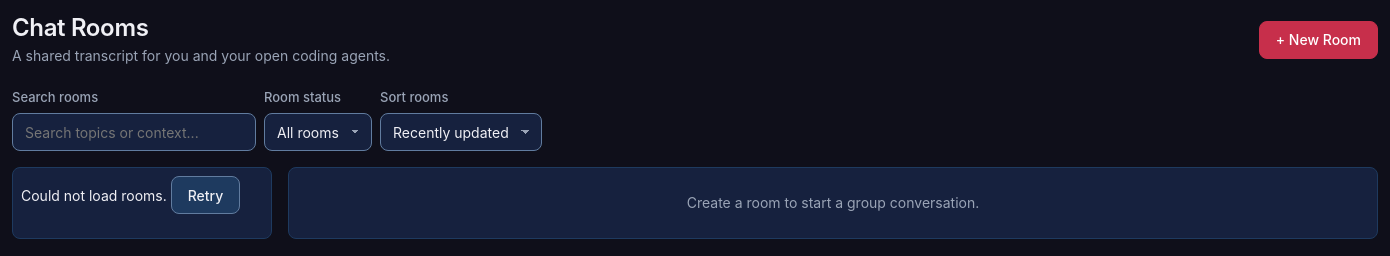
Test case: ChatPage › keeps search, status and sort available while loading, empty and failed
expect the field labelled "Search rooms" is shown: met, box left=12, top=113, right=256, bottom=151
expect the dropdown labelled "Room status" shows "All rooms": met, box left=264, top=113, right=372, bottom=151
Click the button "Retry" at [206, 195], box left=171, top=176, right=240, bottom=214
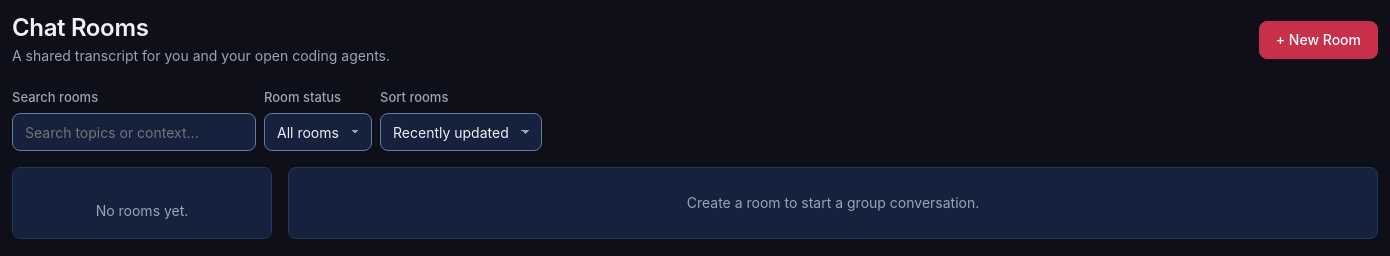
expect the dropdown labelled "Room status" is shown: met, box left=264, top=113, right=372, bottom=151
expect the text "No rooms yet." is shown: met, box left=96, top=202, right=188, bottom=219
